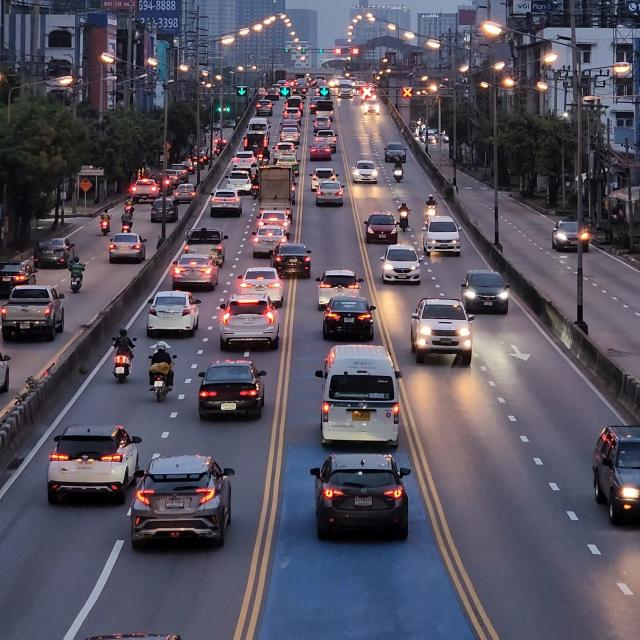Car: (129, 449, 239, 563), (310, 452, 414, 548), (314, 343, 408, 448), (52, 420, 138, 501), (590, 423, 640, 531), (408, 296, 477, 365), (218, 290, 288, 350), (0, 282, 67, 344), (150, 289, 205, 339), (462, 266, 513, 316), (323, 297, 380, 339), (169, 254, 221, 294), (382, 244, 419, 284), (108, 232, 149, 263)
